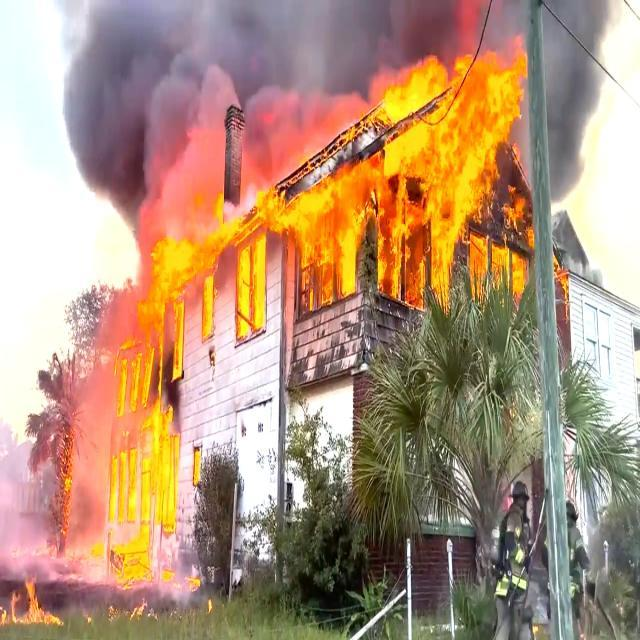Fire: (400, 64, 490, 250), (297, 214, 359, 294), (131, 296, 185, 379), (138, 402, 171, 528), (153, 207, 242, 245), (368, 180, 396, 288), (308, 165, 360, 206), (238, 248, 264, 328), (118, 368, 130, 524), (150, 252, 202, 286), (256, 194, 294, 230), (402, 252, 426, 306), (114, 541, 146, 578), (501, 246, 525, 290), (208, 278, 216, 330), (473, 254, 482, 280)
Smoke: (54, 0, 385, 89), (66, 89, 162, 198)
